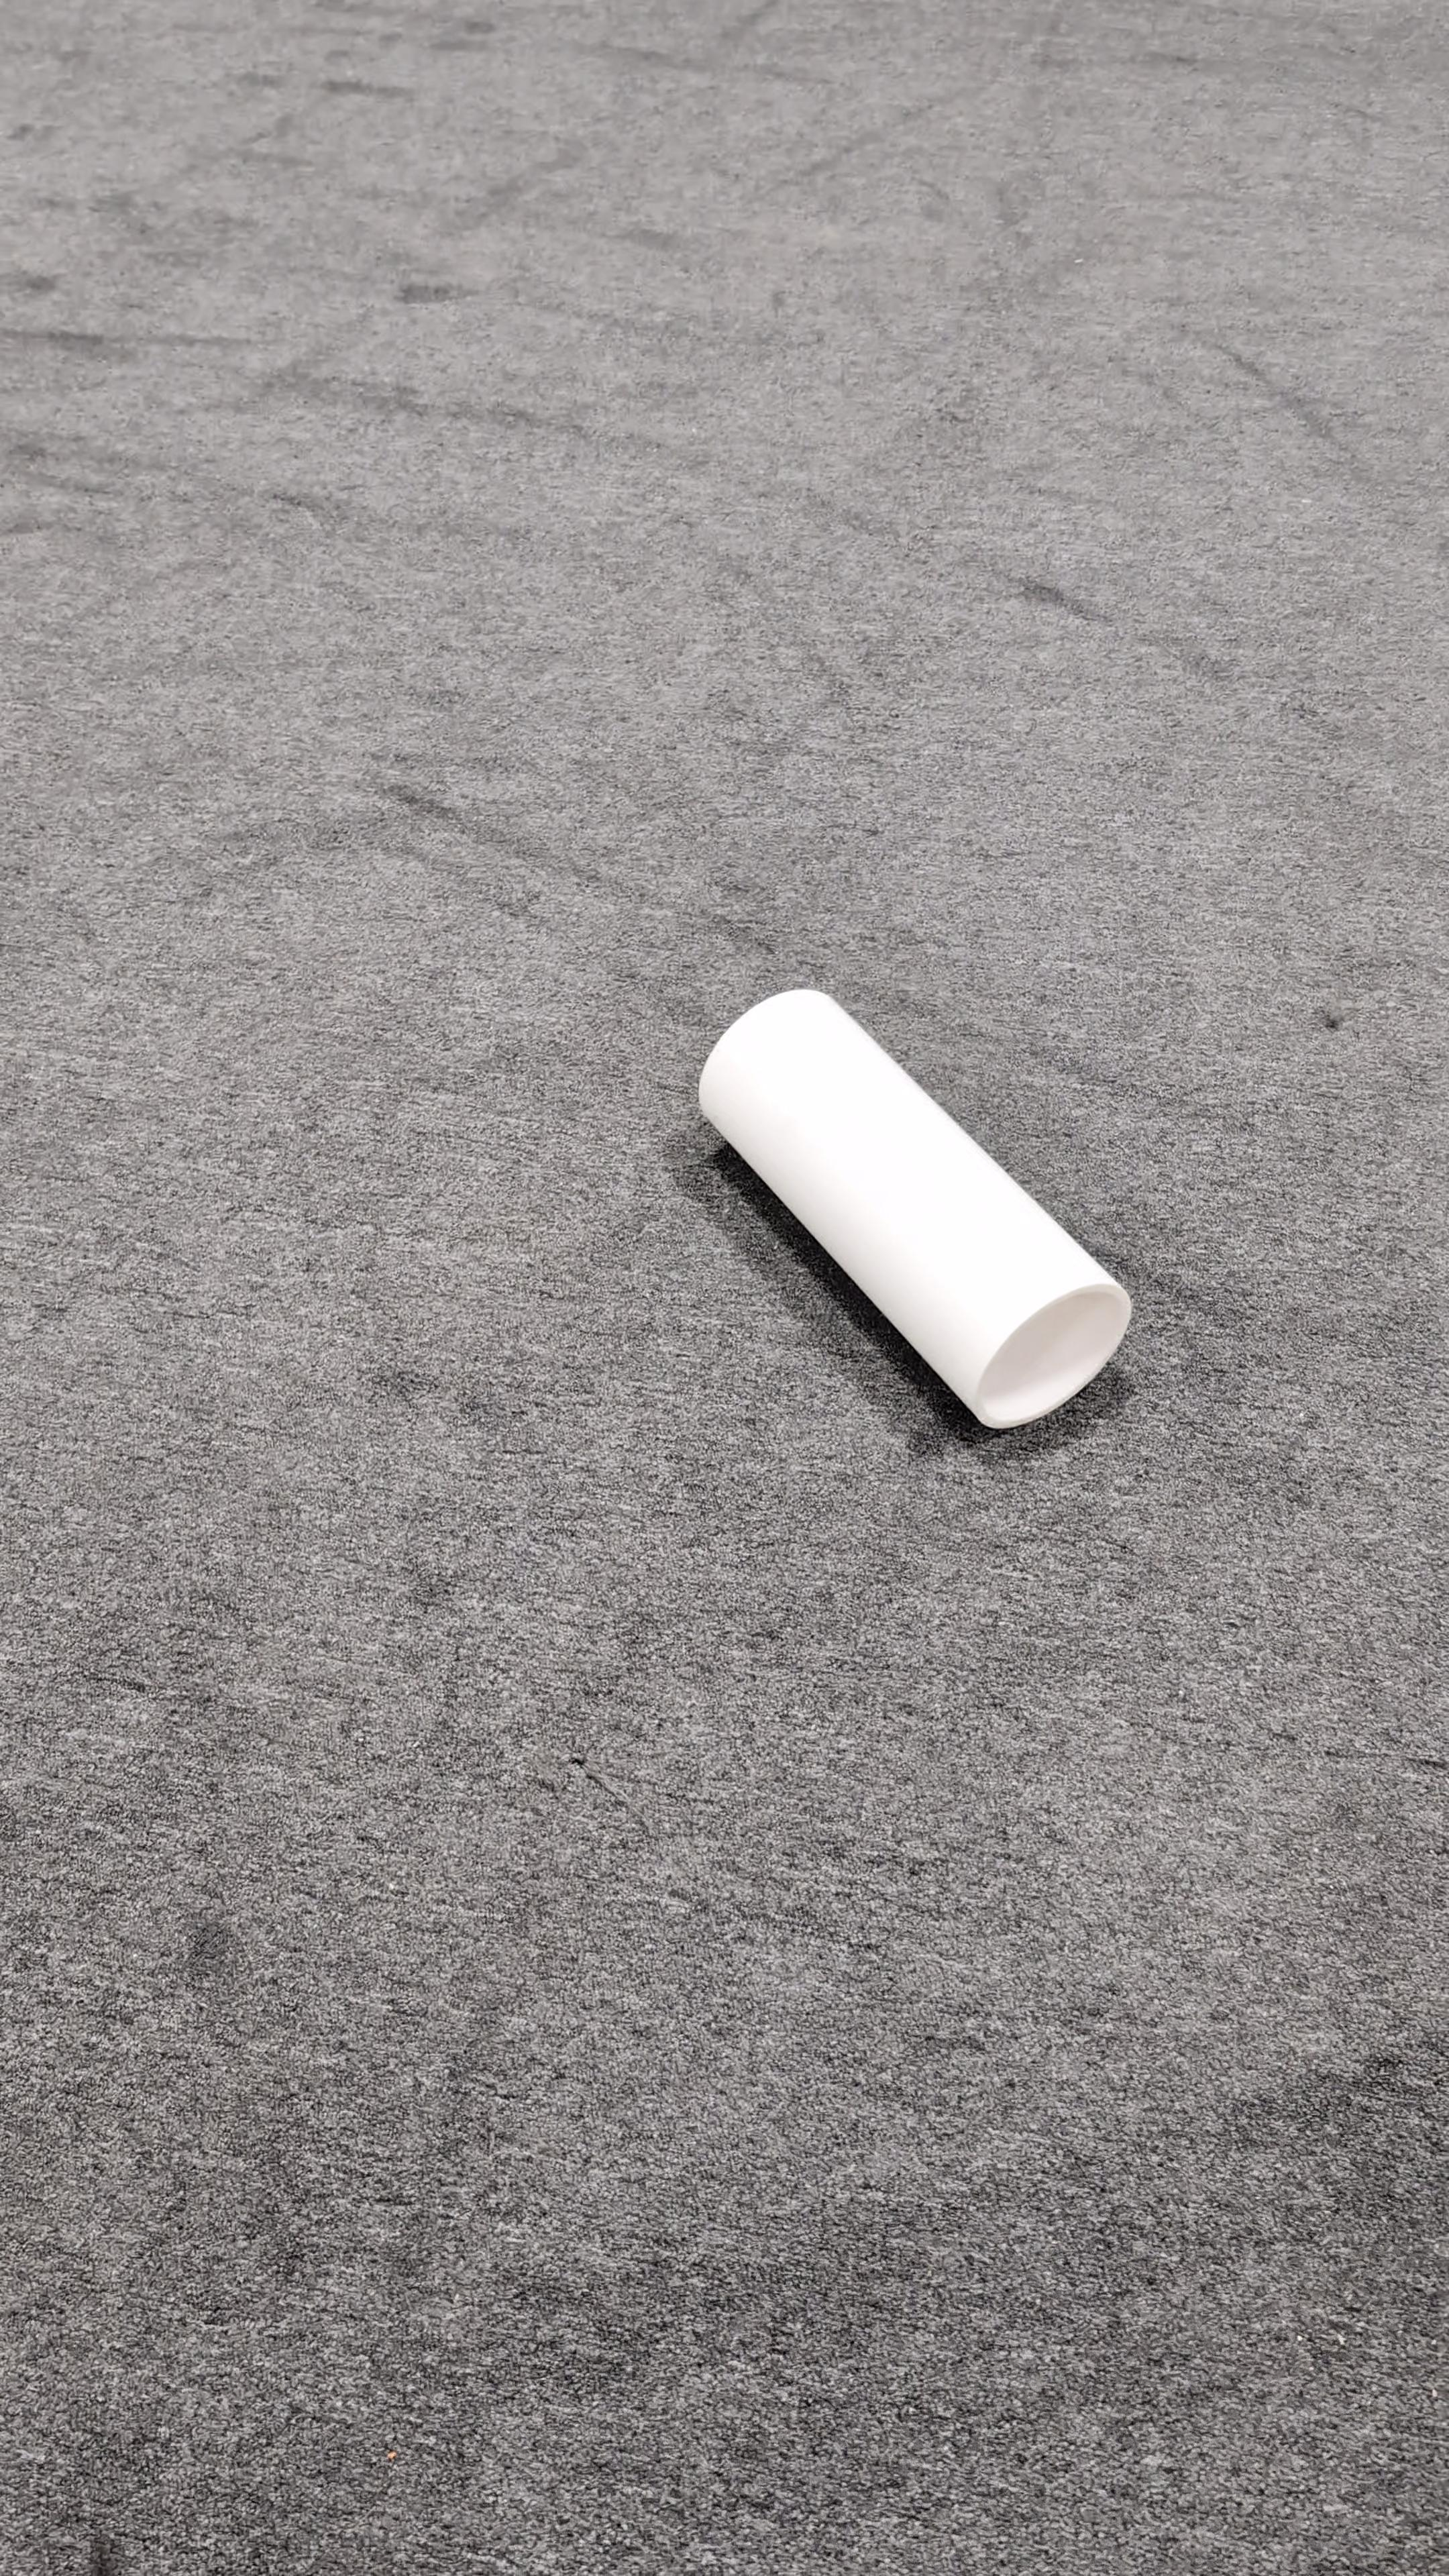coral: (695, 982, 1132, 1430)
